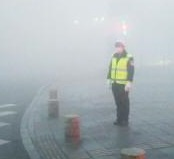person: (106, 39, 137, 127)
